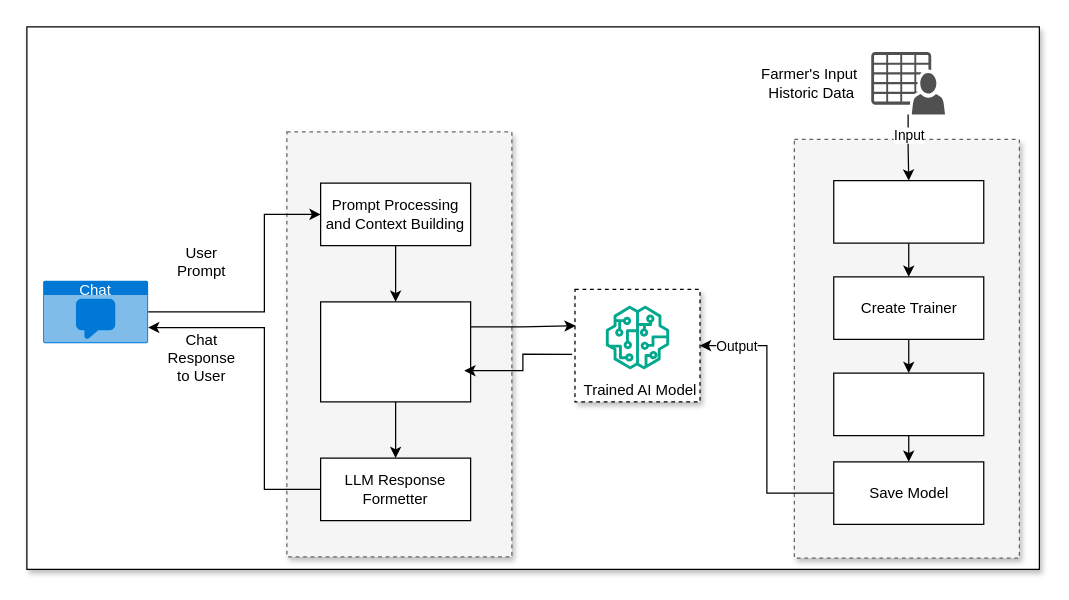
The diagram is 1069 pixels wide and 600 high, and some of its shapes have lost their labels. Here are the shapes that lost their labels. From the top down, the centre of each, then its label:
(908,211): Load CSV Data
(395,351): Feature Extraction Layer & Prediction Result
(908,404): Train and Evaluate Model
